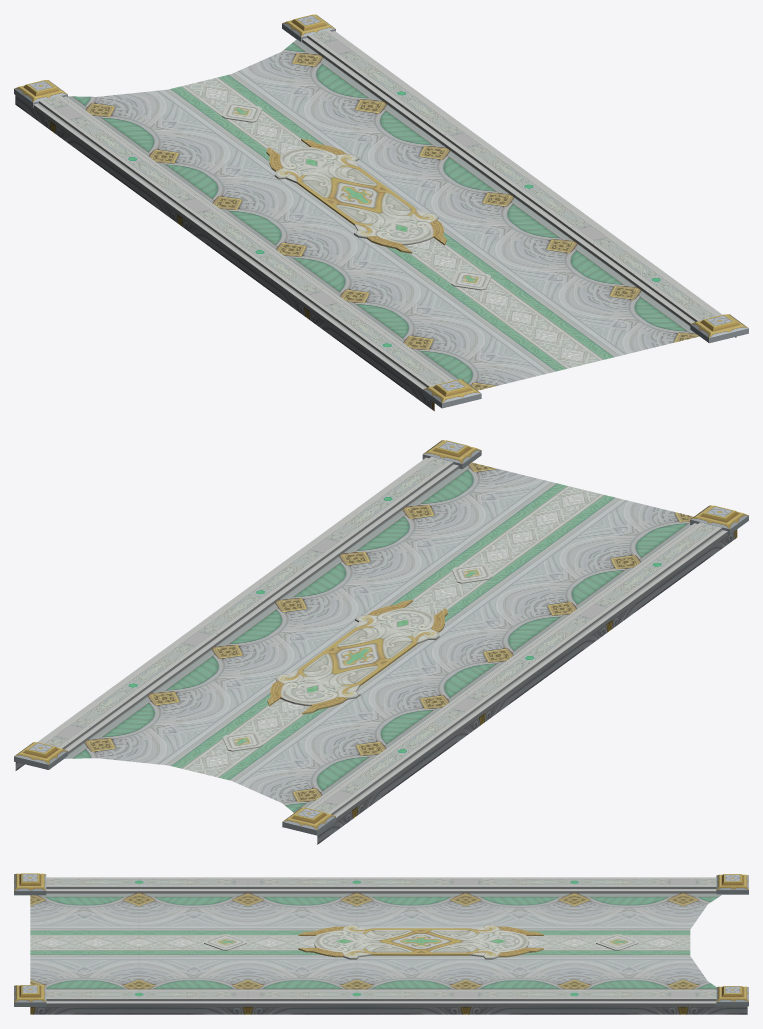
Rendered from W3_HD_GongHuiBoss_dimian_04_03_D.FBX.
3 views of the same model, one above another, from view 1: azimuth 30°, elevation 25°; view 2: azimuth 150°, elevation 25°; view 3: azimuth 270°, elevation 25° (orthographic). The views are drawn at different scales.
Parts seen in each view (by area): view 1: W3_HD_GongHuiBoss_dimian_04_03_D; view 2: W3_HD_GongHuiBoss_dimian_04_03_D; view 3: W3_HD_GongHuiBoss_dimian_04_03_D.
Boxes of the visible parts, bbox=[...] form: W3_HD_GongHuiBoss_dimian_04_03_D: bbox=[14, 14, 748, 411]; W3_HD_GongHuiBoss_dimian_04_03_D: bbox=[14, 440, 748, 844]; W3_HD_GongHuiBoss_dimian_04_03_D: bbox=[14, 873, 748, 1014].
Bounding box in the file's own units: 15.31 × 1.02 × 37.11.
